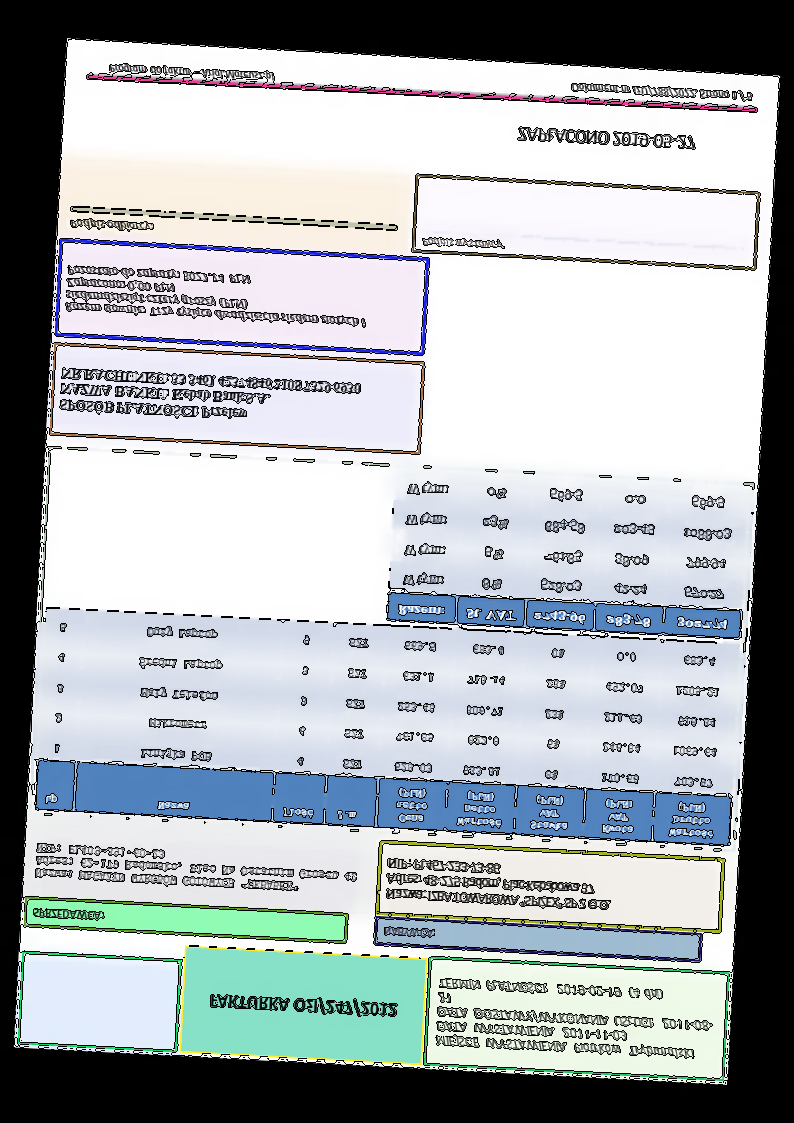Table: (33, 607, 741, 849), (386, 469, 749, 639)
TextBox: (431, 975, 715, 1063), (63, 263, 371, 330), (58, 365, 362, 430), (32, 840, 359, 896), (383, 856, 613, 912), (207, 990, 399, 1020), (514, 125, 699, 154), (568, 80, 754, 104), (104, 61, 278, 84), (66, 216, 154, 235), (421, 235, 506, 252), (30, 904, 106, 923), (380, 922, 437, 942)
